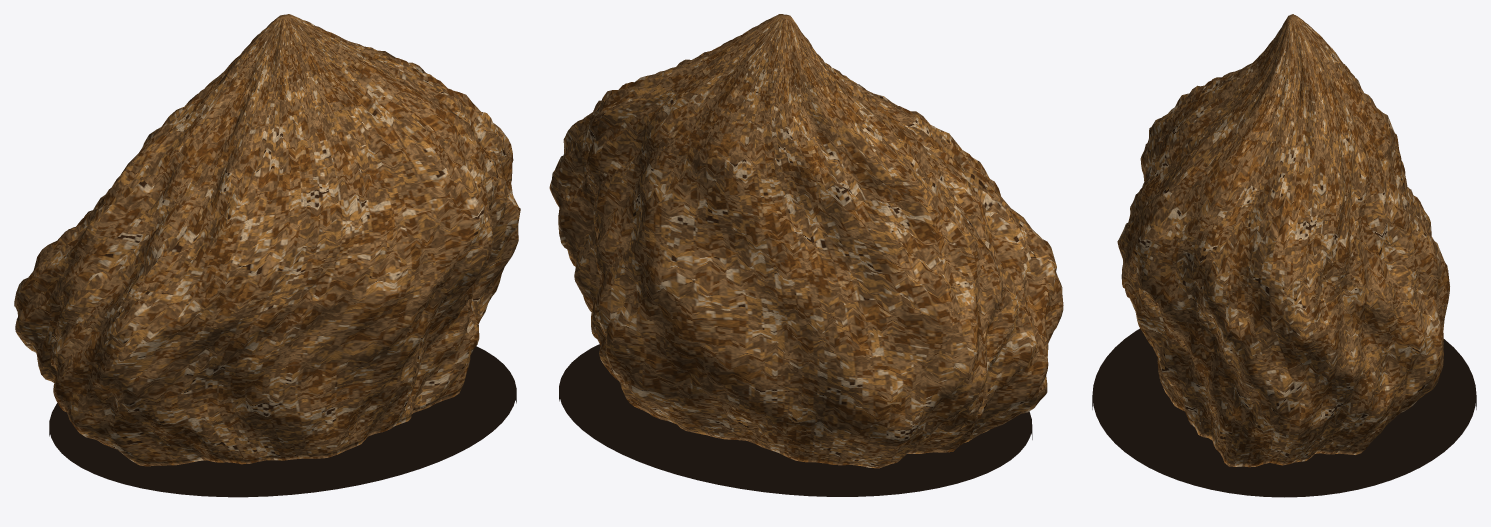
Rendered from lingstone-concept-04-v19.glb.
3 views of the same model, side by side, from view 1: azimuth 30°, elevation 25°; view 2: azimuth 150°, elevation 25°; view 3: azimuth 270°, elevation 25° (orthographic). The views are drawn at different scales.
Parts seen in each view (by area): view 1: XY-CONCEPT-004 concept stone, Concept display plinth; view 2: XY-CONCEPT-004 concept stone, Concept display plinth; view 3: XY-CONCEPT-004 concept stone, Concept display plinth.
Boxes of the visible parts, <box> form: XY-CONCEPT-004 concept stone: <box>14,14,520,466</box>; Concept display plinth: <box>49,346,516,497</box>; XY-CONCEPT-004 concept stone: <box>549,14,1063,468</box>; Concept display plinth: <box>559,344,1032,496</box>; XY-CONCEPT-004 concept stone: <box>1117,14,1449,467</box>; Concept display plinth: <box>1092,328,1476,497</box>.
Size of the model in its own units: 1.56 by 1.28 by 1.12.
2 materials, 1 textured.
